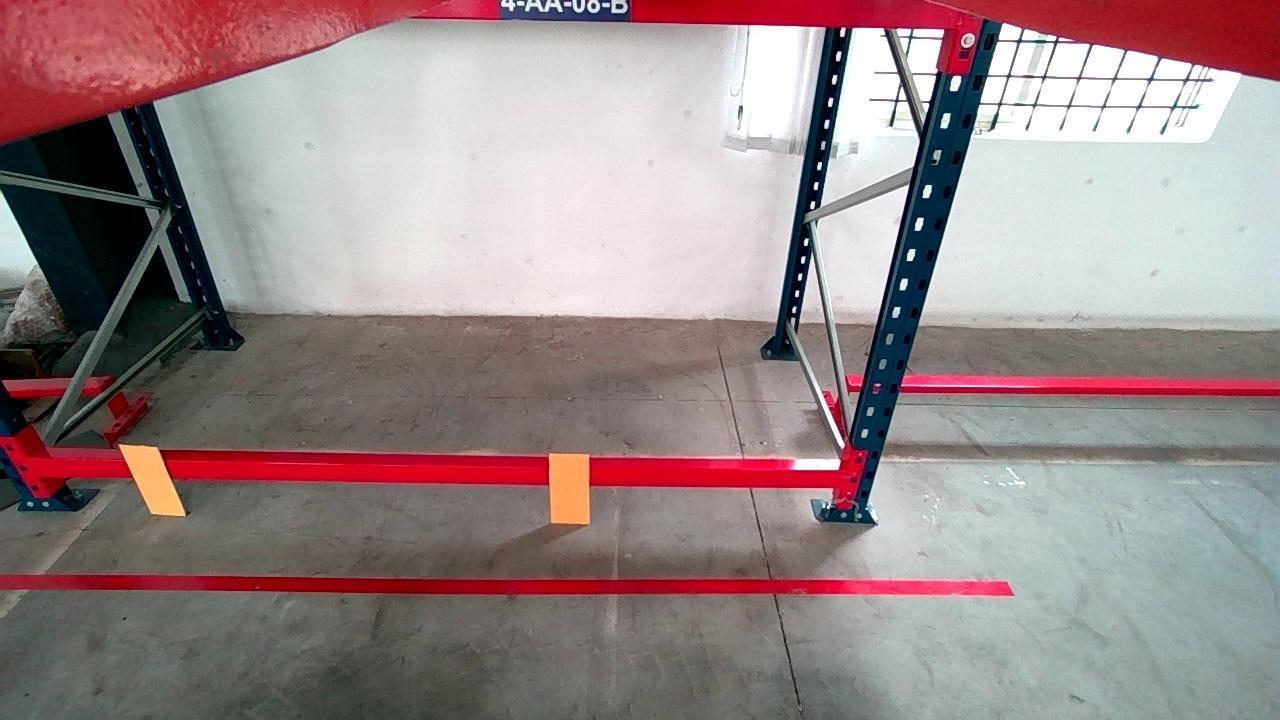h_rack: (23, 459, 856, 488), (412, 0, 981, 28)
orange_strip: (115, 443, 183, 514), (547, 453, 590, 524)
red_line: (0, 572, 1013, 596)
